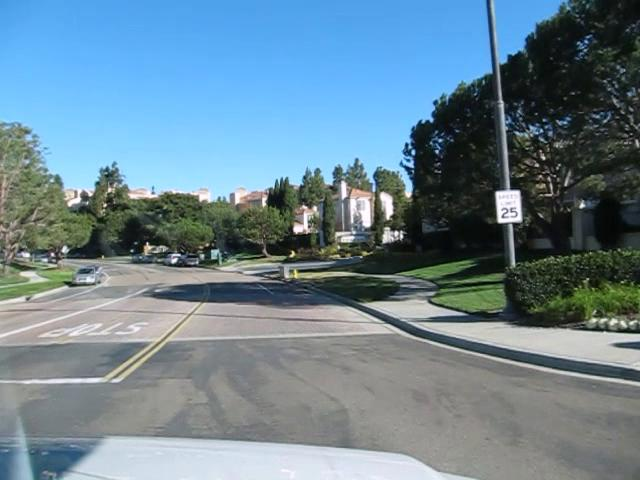speedLimit25: (494, 189, 523, 223)
